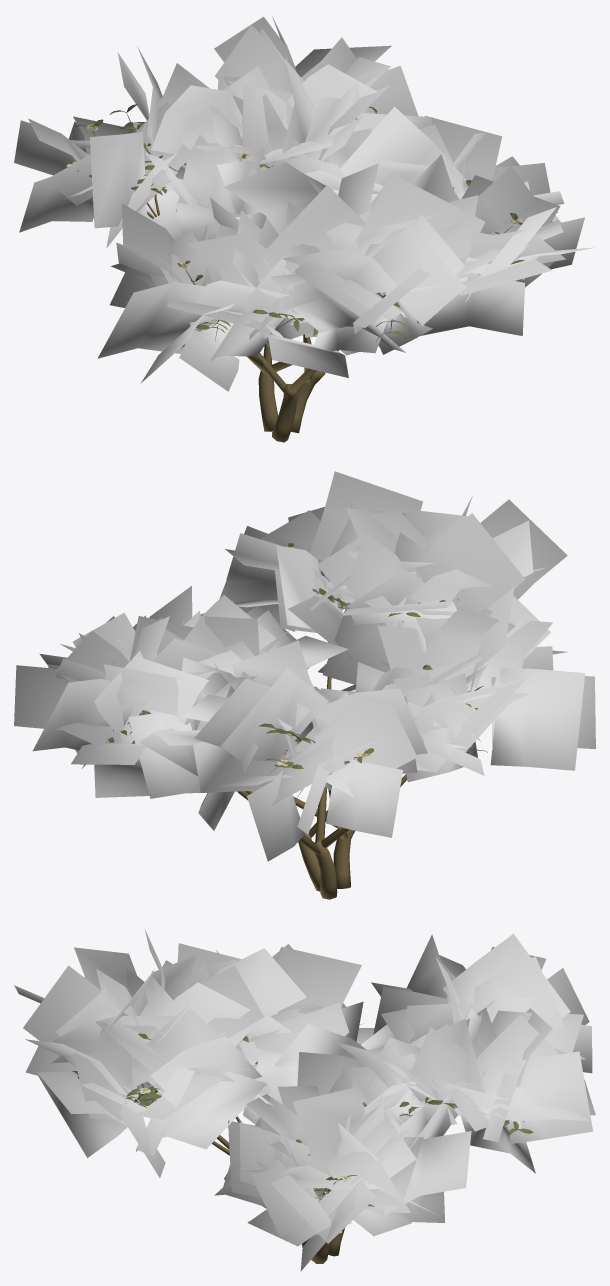
Rendered from V7_Ciste_1_Niveau0.fbx.
3 views of the same model, one above another, from view 1: azimuth 30°, elevation 25°; view 2: azimuth 150°, elevation 25°; view 3: azimuth 270°, elevation 25° (orthographic). The views are drawn at different scales.
Visible parts, largest first — view 1: V7_Ciste_1; view 2: V7_Ciste_1; view 3: V7_Ciste_1.
Boxes of the visible parts, x1,y1,x2,y2 form: V7_Ciste_1: (14,16,594,442); V7_Ciste_1: (14,471,595,899); V7_Ciste_1: (14,930,595,1271).
Size of the model in its own units: 180 by 115 by 197.
